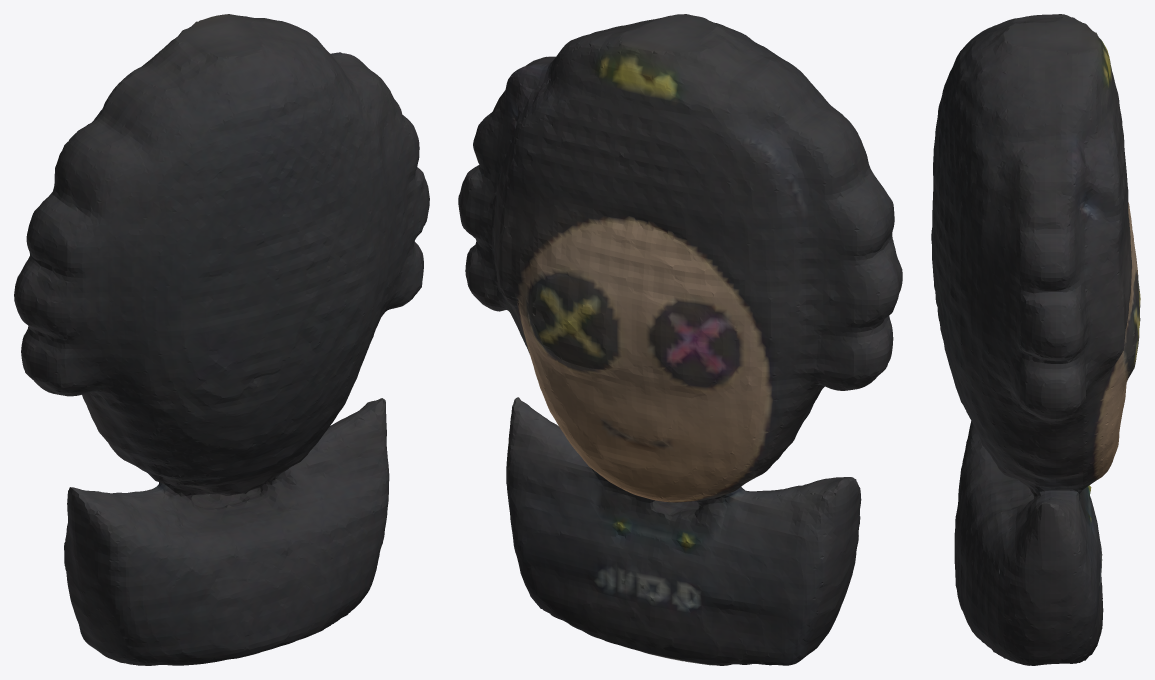
File: universe-snoz-3d.glb
3 renders of one model, left to right at view 1: azimuth 30°, elevation 25°; view 2: azimuth 150°, elevation 25°; view 3: azimuth 270°, elevation 25°, orthographic. The views are drawn at different scales.
Visible parts, largest first — view 1: snoz-3d.glb; view 2: snoz-3d.glb; view 3: snoz-3d.glb.
Part boxes in pixels (bbox=[...]): snoz-3d.glb: bbox=[14, 14, 429, 665]; snoz-3d.glb: bbox=[458, 14, 902, 665]; snoz-3d.glb: bbox=[931, 14, 1140, 665].
Size of the model in its own units: 1.44 by 1.96 by 0.6316.
